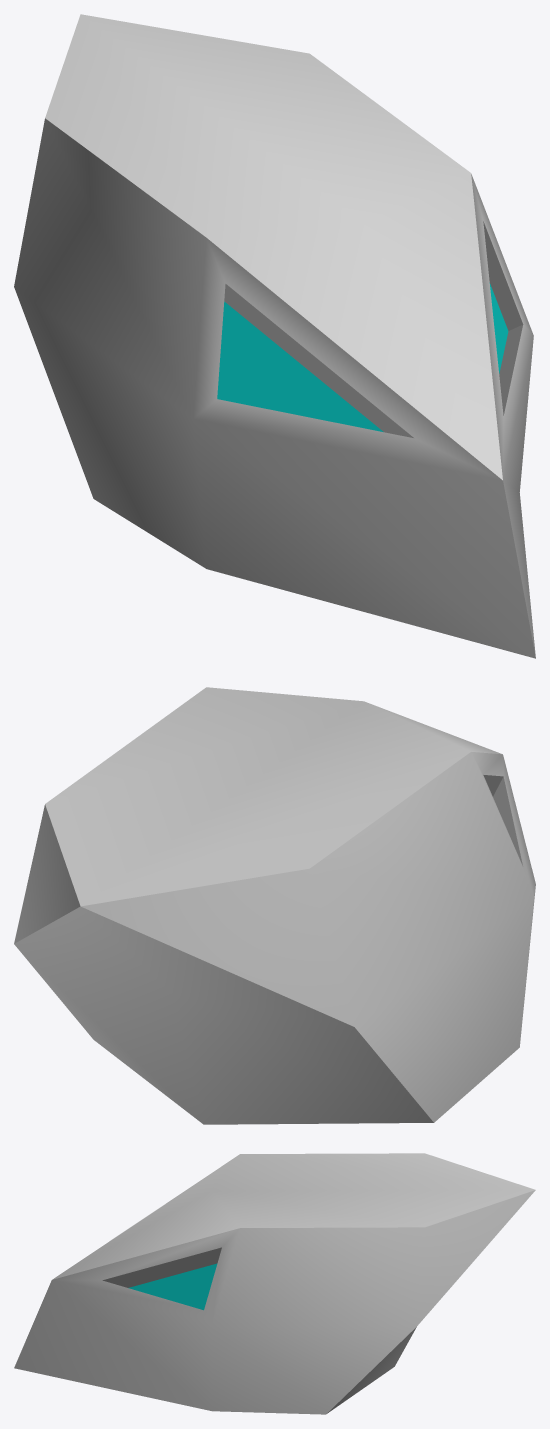
The model's file is Melee_Head.fbx.
3 views of the same model, one above another, from view 1: azimuth 30°, elevation 25°; view 2: azimuth 150°, elevation 25°; view 3: azimuth 270°, elevation 25° (orthographic). The views are drawn at different scales.
Parts seen in each view (by area): view 1: mesh_melee_robot_Head; view 2: mesh_melee_robot_Head; view 3: mesh_melee_robot_Head.
Part boxes in pixels (box(x1,y1,x2,y2)): mesh_melee_robot_Head: box(14, 14, 535, 658); mesh_melee_robot_Head: box(14, 687, 535, 1124); mesh_melee_robot_Head: box(14, 1153, 535, 1414).
Bounding box in the file's own units: 15.65 × 13.67 × 36.26.
